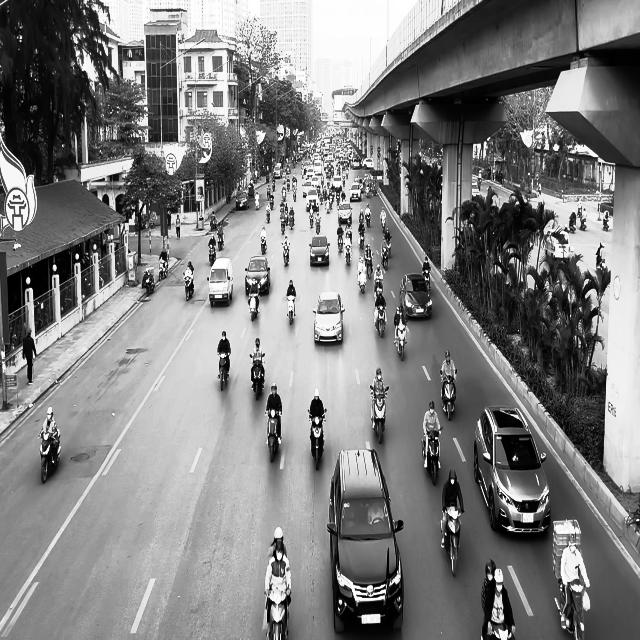car: (327, 447, 404, 633), (473, 404, 551, 534), (312, 291, 345, 344), (400, 272, 432, 320), (207, 257, 233, 307), (544, 226, 574, 269), (244, 256, 270, 295), (309, 234, 330, 266), (338, 201, 352, 224), (235, 190, 249, 210)
motorbike: (554, 576, 584, 640), (440, 506, 462, 576), (38, 427, 61, 483), (421, 427, 443, 485), (265, 590, 290, 640), (370, 384, 389, 443), (308, 409, 326, 470), (265, 409, 282, 462), (439, 369, 456, 421), (249, 352, 265, 399), (217, 350, 230, 391), (248, 282, 261, 322), (394, 320, 407, 360), (374, 301, 386, 337), (284, 294, 296, 325), (142, 268, 155, 296), (183, 270, 194, 301), (357, 265, 367, 293), (343, 237, 352, 266), (158, 256, 168, 282), (282, 242, 290, 266), (208, 244, 216, 266), (217, 230, 224, 251), (260, 232, 266, 255)
